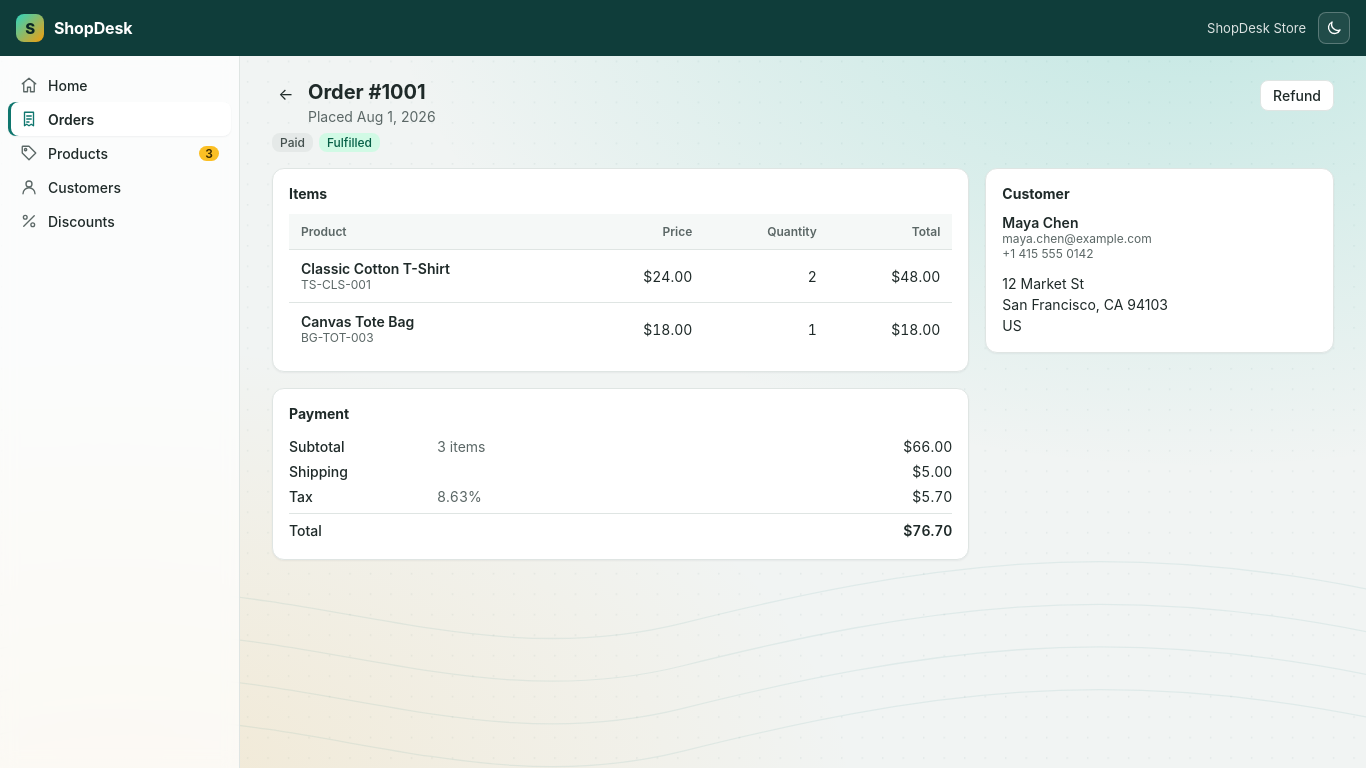
Test: refunding an order › refunds one item with its tax and updates the payment status
Click the button "Refund" at (1297, 96), box [1260,80,1334,111]
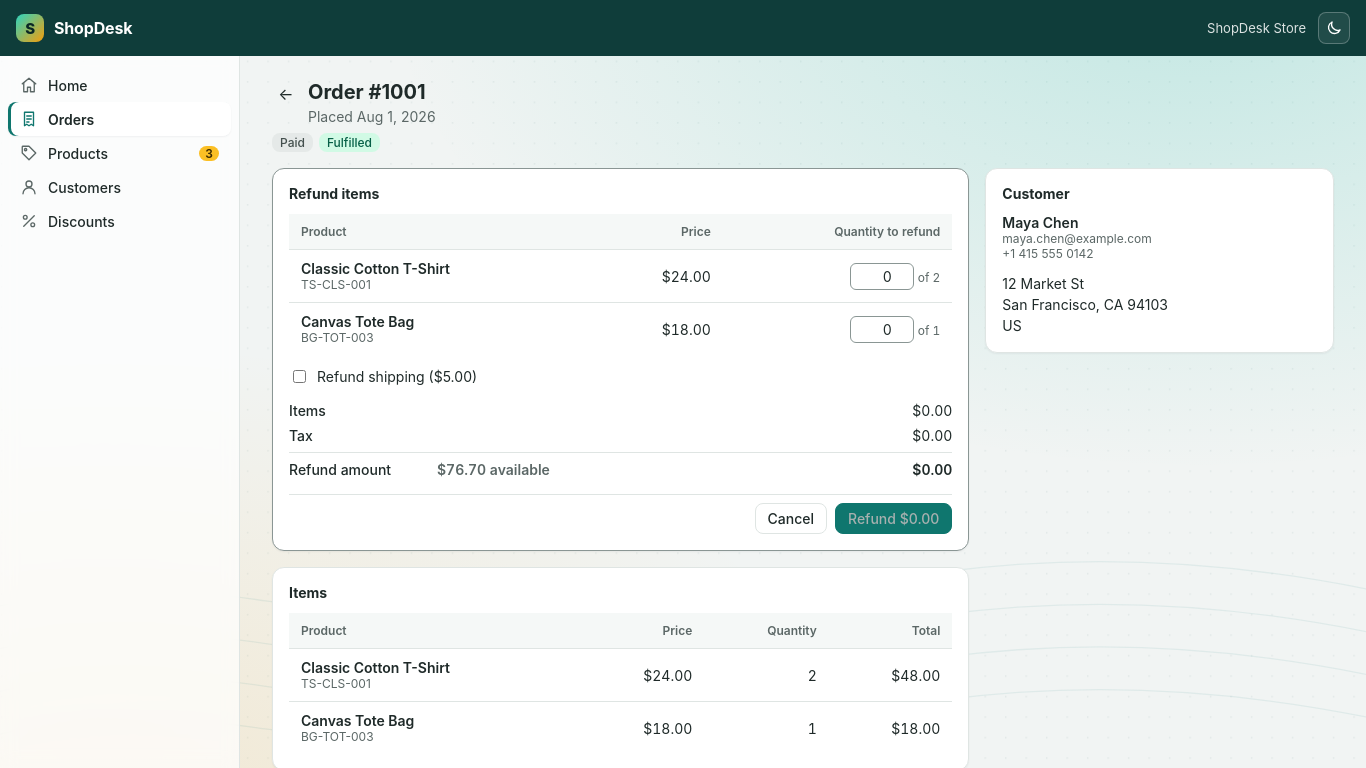
Replace the text in the number field named "Quantity of Classic Cotton T-Shirt to refund" with "1" at (882, 276), box [850,262,914,290]
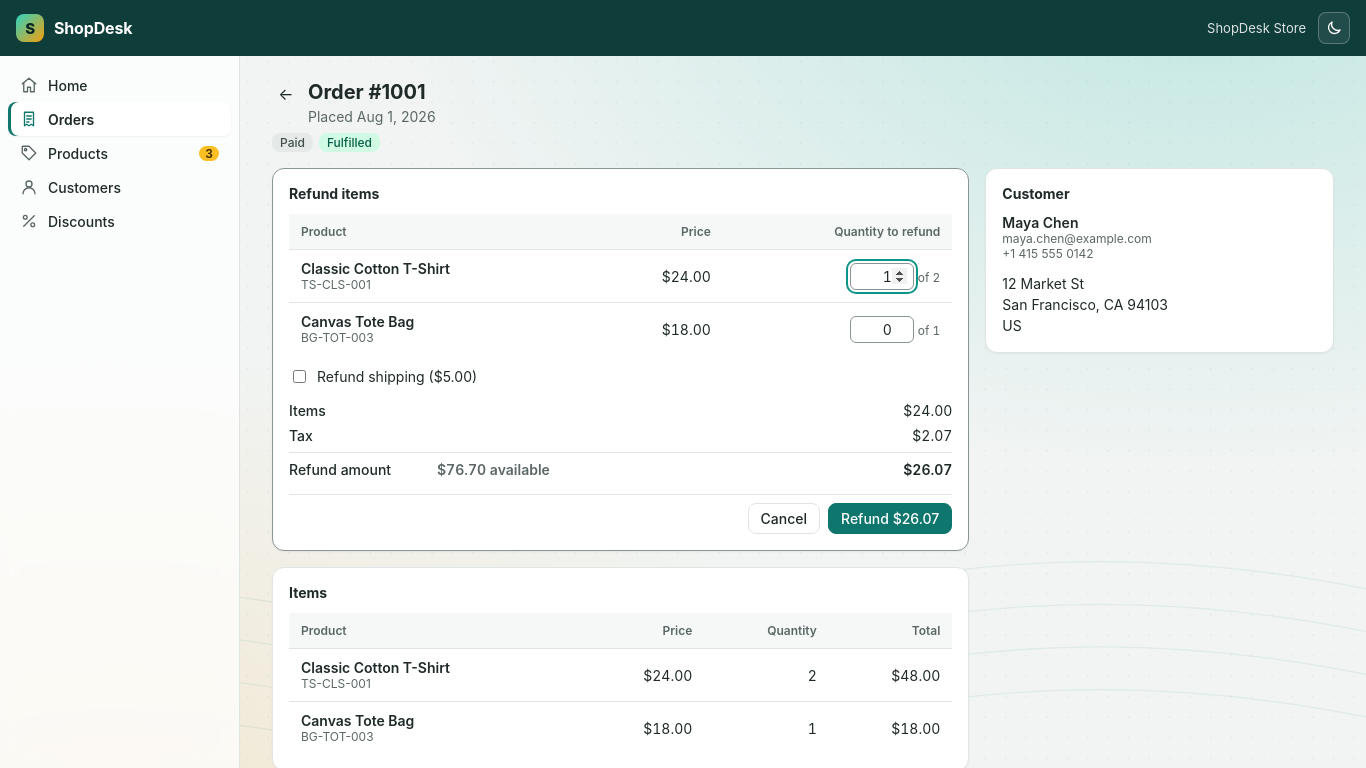
Click the button "Refund $26.07" at (890, 518), box [828,503,952,534]
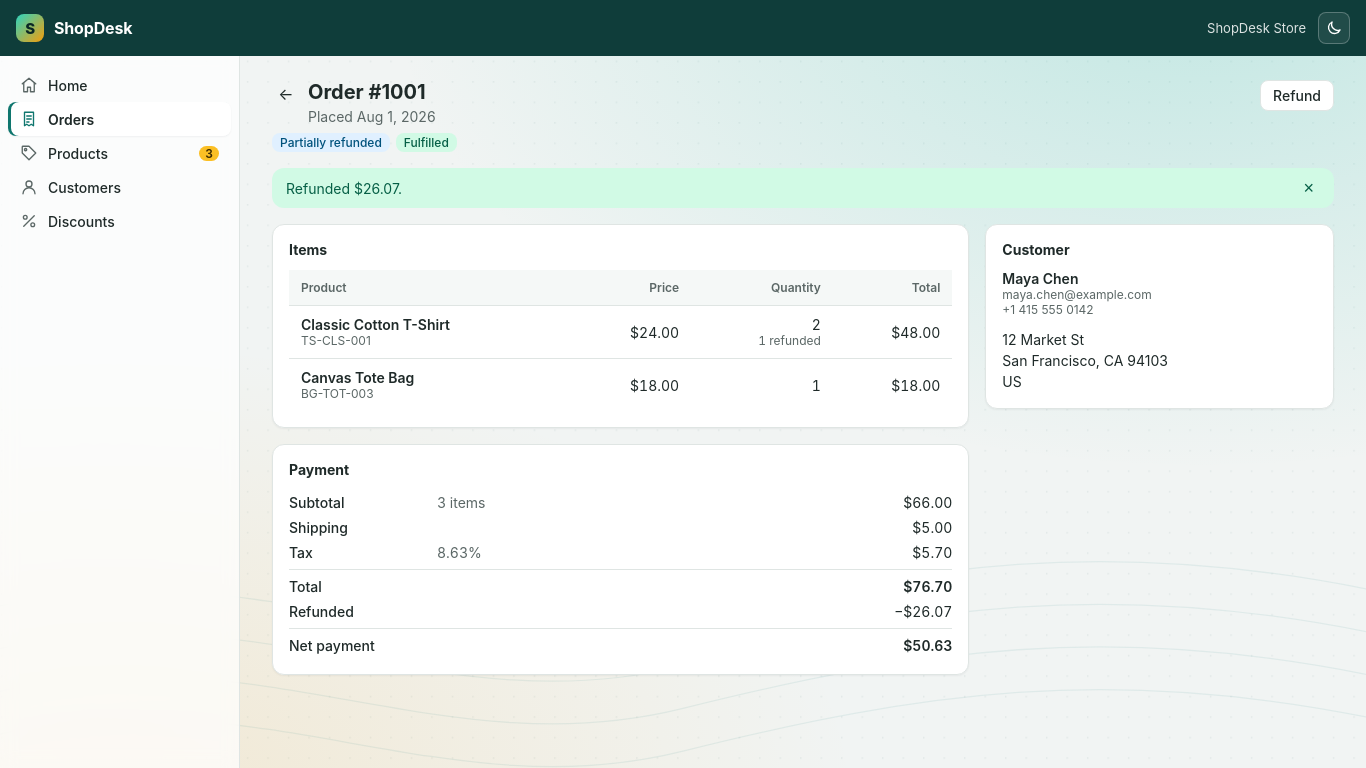
Now the message shows "Refunded $26.07.", box [286,180,402,196]
Now the heading "Refund items" is gone
Now the text "Partially refunded" is shown, box [272,133,390,152]
